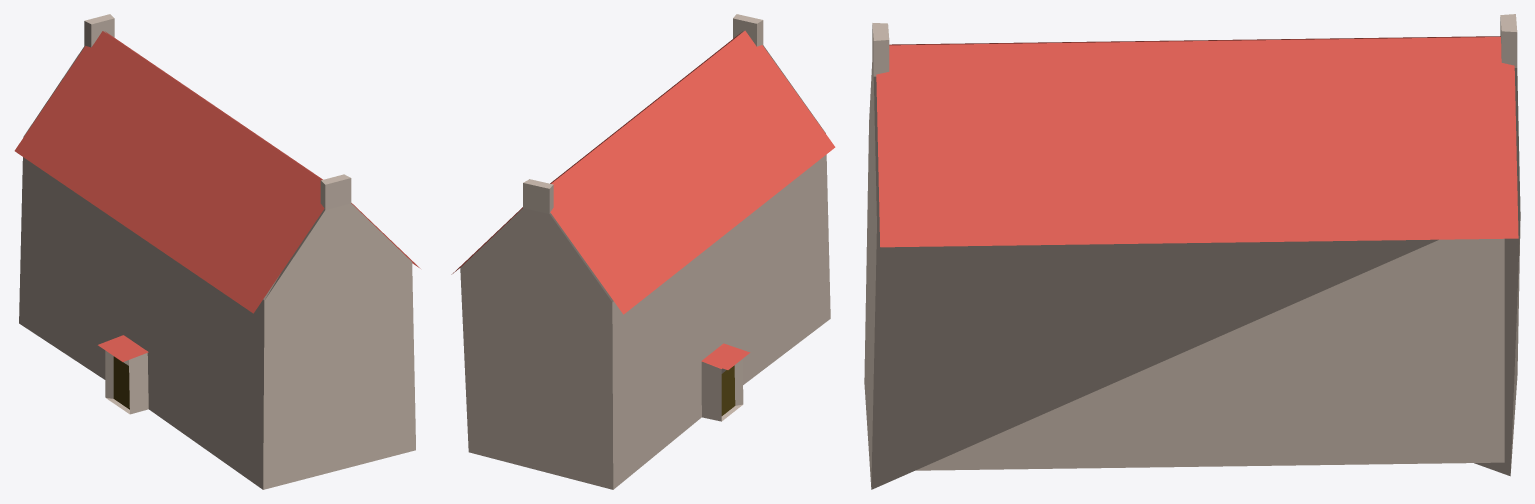
The model's file is M_003.Modern Irish House 2 storey.fbx.
The picture shows the model from 3 angles, left to right: view 1: azimuth 30°, elevation 25°; view 2: azimuth 150°, elevation 25°; view 3: azimuth 270°, elevation 25°; orthographic projection. The views are drawn at different scales.
Visible parts, largest first — view 1: House Walls, Roof, Little Roof; view 2: House Walls, Roof, Little Roof; view 3: House Walls, Roof.
Boxes of the visible parts, box(x1,y1,x2,y2) form: House Walls: box(19, 14, 415, 489); Roof: box(14, 31, 420, 313); Little Roof: box(98, 335, 148, 361); House Walls: box(460, 14, 830, 489); Roof: box(451, 30, 835, 314); Little Roof: box(701, 343, 750, 369); House Walls: box(864, 14, 1520, 489); Roof: box(876, 36, 1518, 247).
Bounding box in the file's own units: 418 × 588 × 863.
